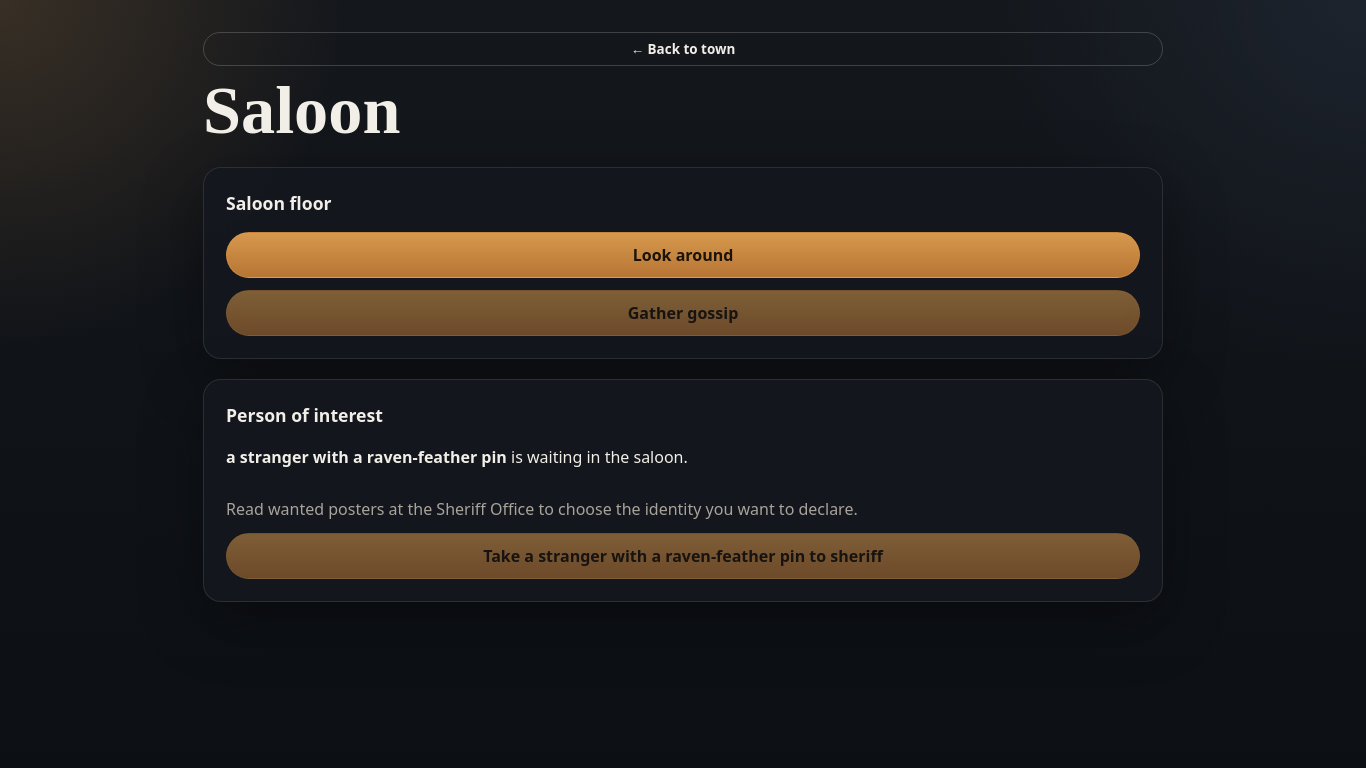
Test: SaloonPlace › shows a request error for a rejected permitted Saloon command
Click the button "Look around" at (683,255), box [226,232,1140,278]
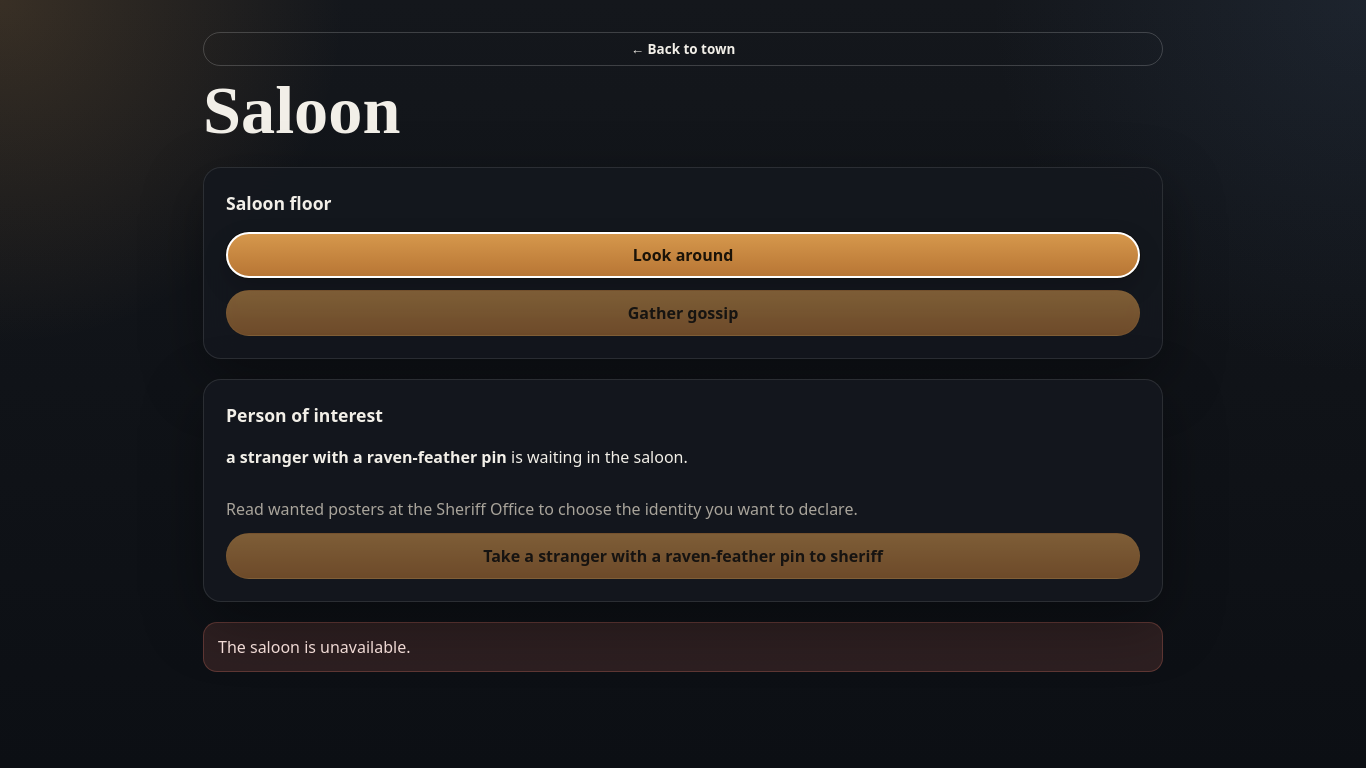
Check: the text "The saloon is unavailable." is shown, box [203,622,1163,672]
